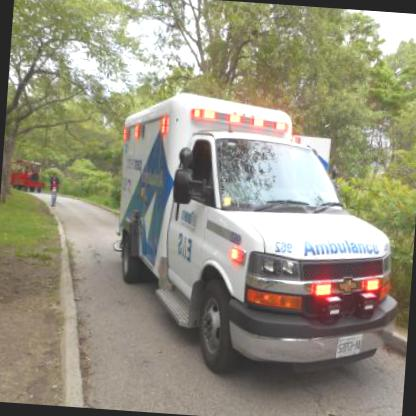truck: (104, 87, 414, 387)
